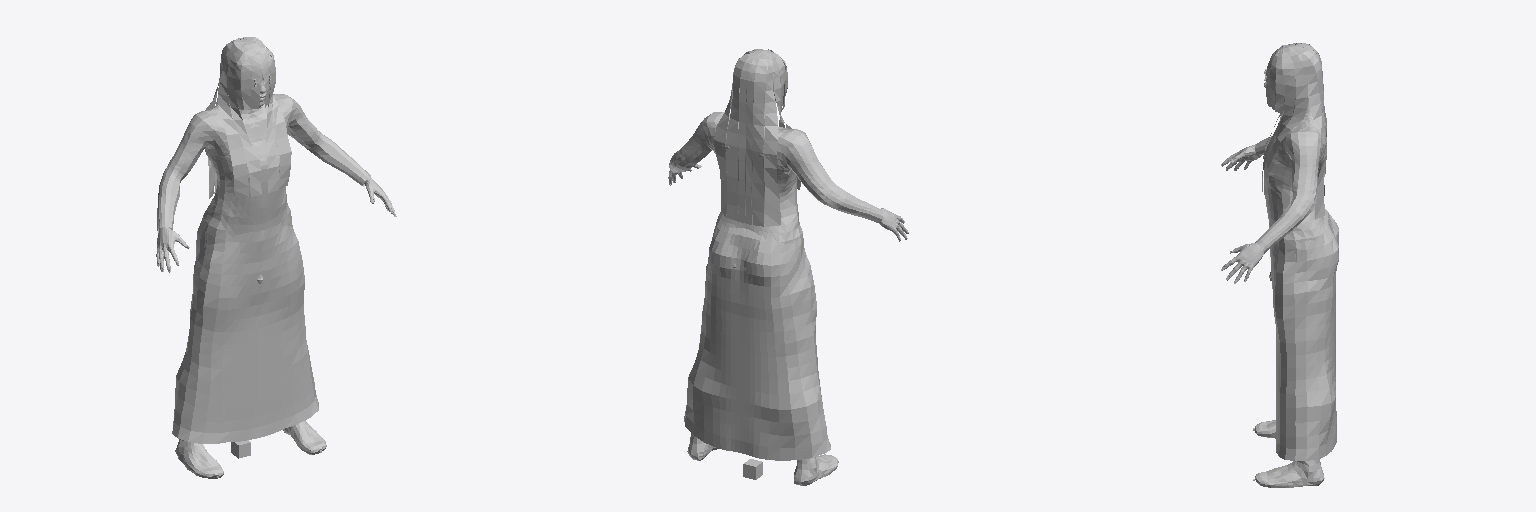
The picture shows the model from 3 angles: view 1: azimuth 30°, elevation 25°; view 2: azimuth 150°, elevation 25°; view 3: azimuth 270°, elevation 25°; orthographic projection.
Visible parts, largest first — view 1: helper-skirt, helper-tights, helper-hair, body; view 2: helper-skirt, helper-hair, helper-tights, body; view 3: helper-skirt, helper-tights, helper-hair, body.
Part boxes in pixels (bbox=[...]): helper-skirt: bbox=[172, 211, 318, 443]; helper-tights: bbox=[157, 94, 370, 478]; helper-hair: bbox=[205, 37, 291, 198]; body: bbox=[156, 39, 395, 430]; helper-skirt: bbox=[684, 219, 830, 460]; helper-hair: bbox=[714, 49, 800, 226]; helper-tights: bbox=[669, 112, 882, 485]; body: bbox=[668, 50, 907, 454]; helper-skirt: bbox=[1269, 209, 1338, 460]; helper-tights: bbox=[1255, 110, 1326, 487]; helper-hair: bbox=[1262, 43, 1326, 219]; body: bbox=[1222, 45, 1315, 282].
Size of the model in its own units: 9.95 by 16.95 by 4.36.